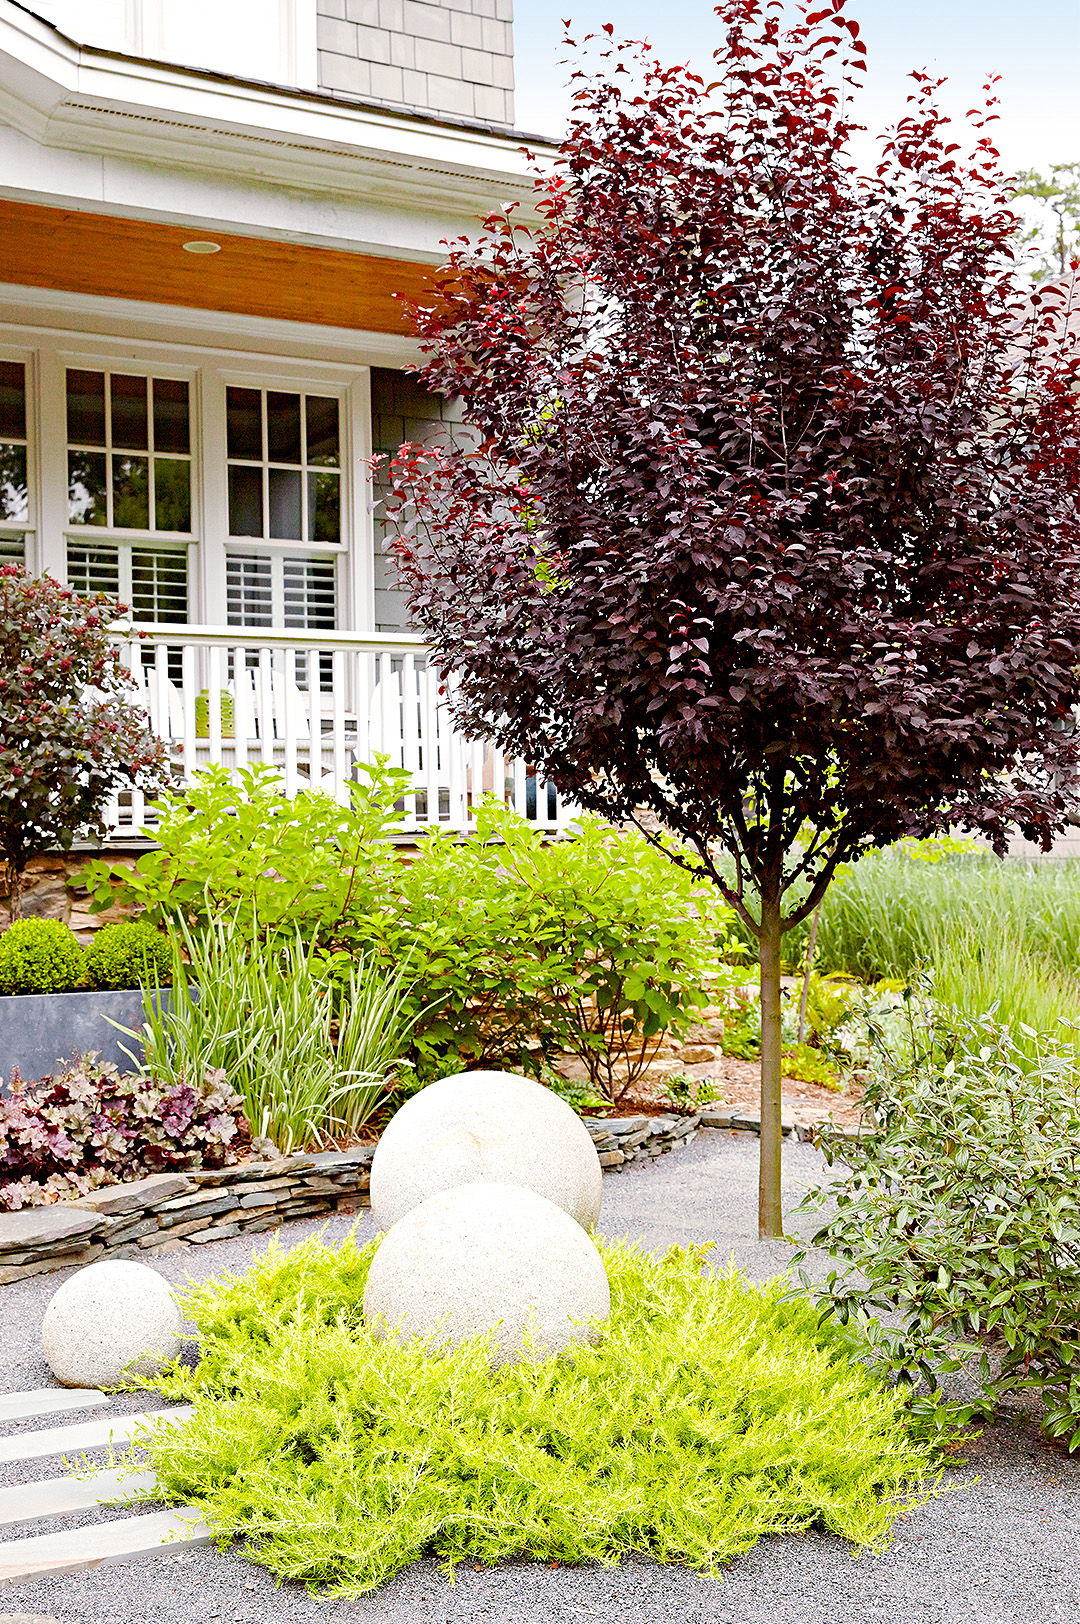bush: (108, 767, 724, 1164)
tree: (399, 2, 1069, 1242)
